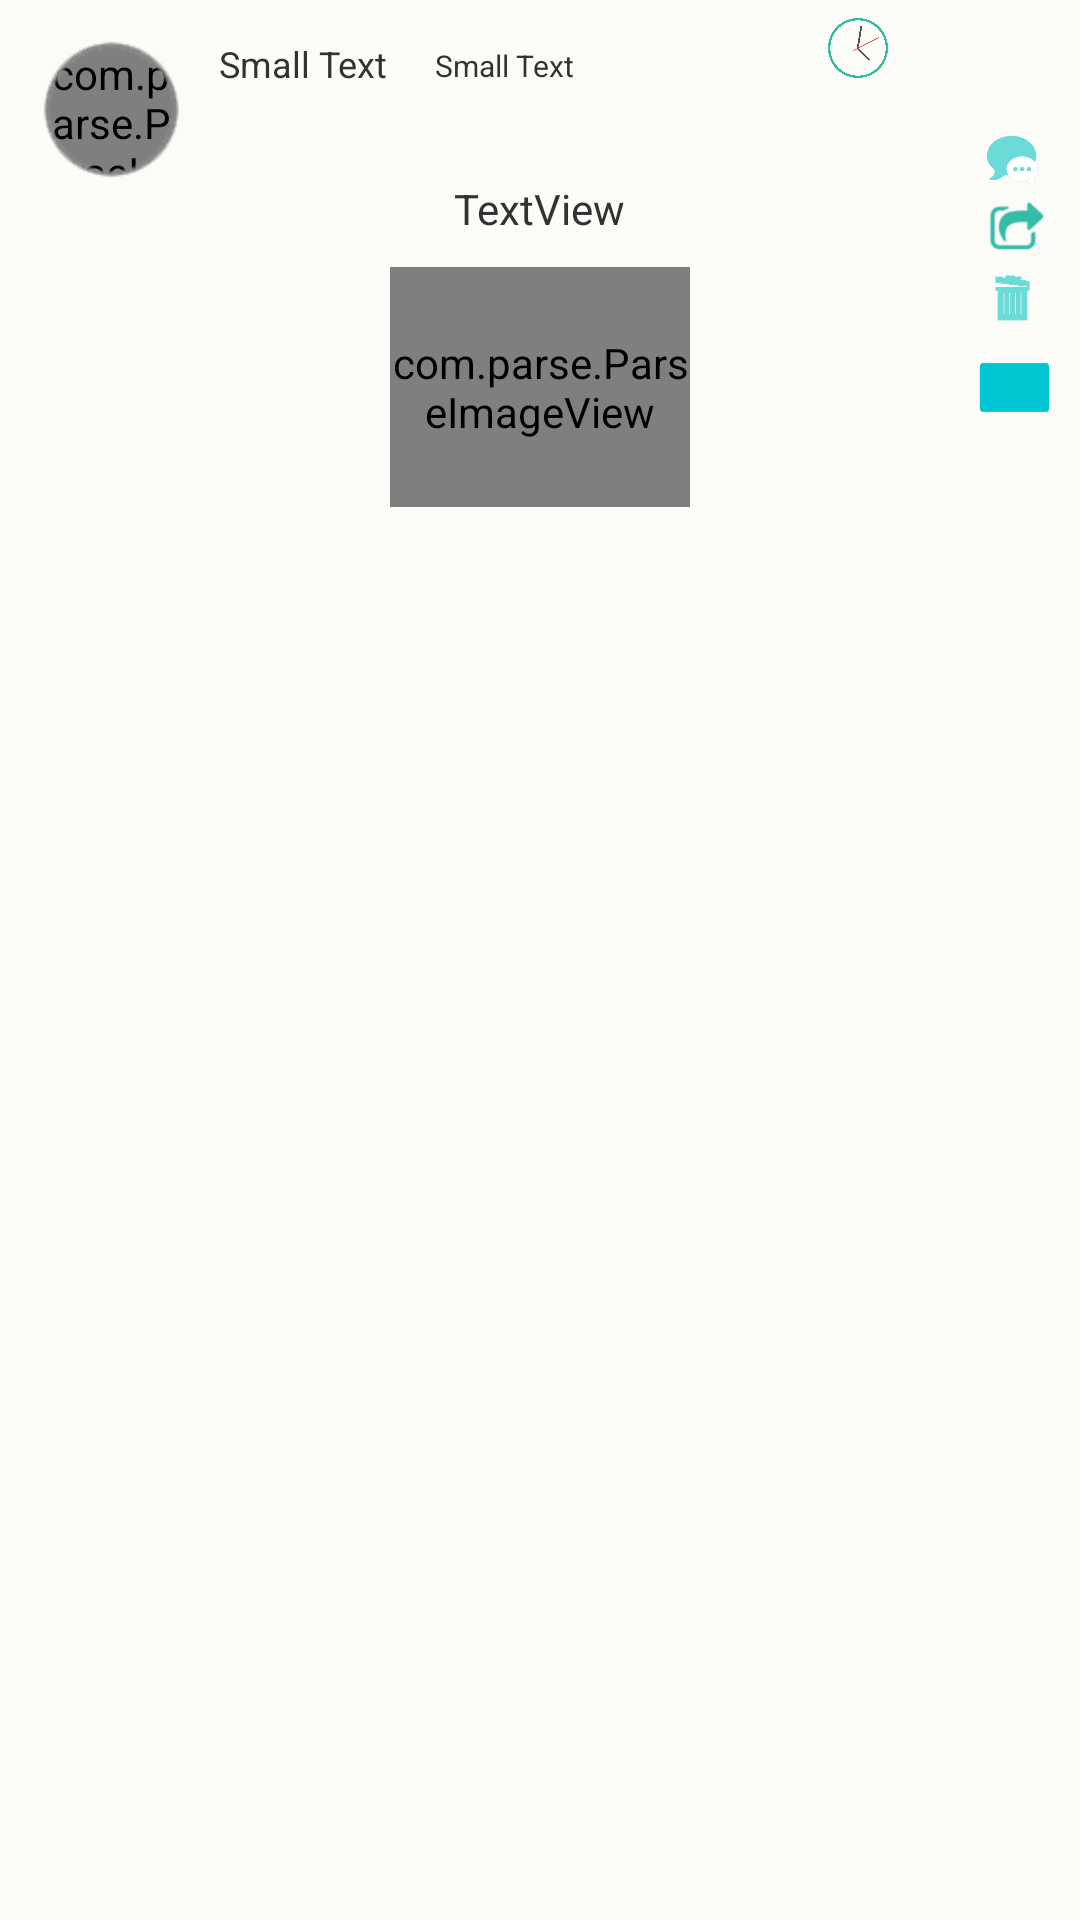

Where icons sit on this 1080x1920 app screen, as (x1, y1, x2, y2):
delete: (995, 275, 1030, 321)
replay: (987, 136, 1038, 185)
repost: (990, 202, 1044, 250)
time: (828, 18, 888, 78)
